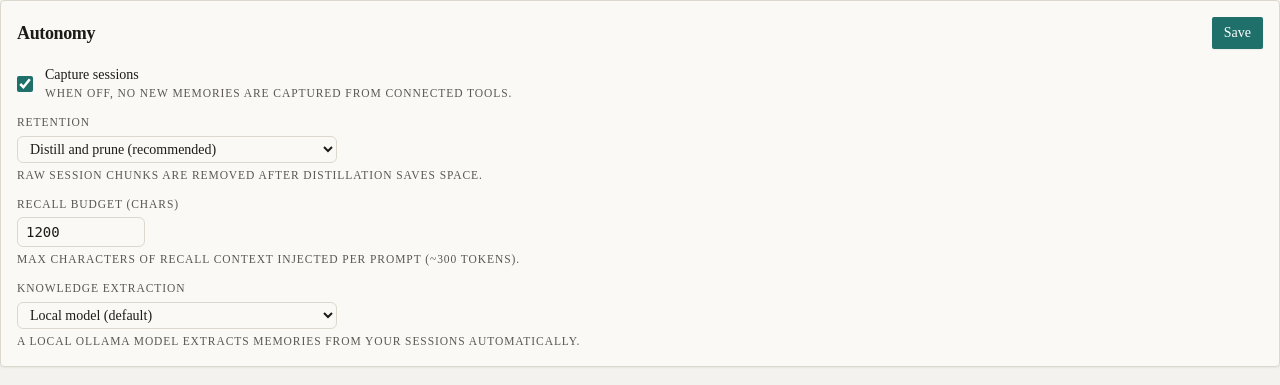
Test: AutonomySettings › shows saved confirmation after successful save
Click the button "Save" at (1237, 33), box [1212,17,1263,49]
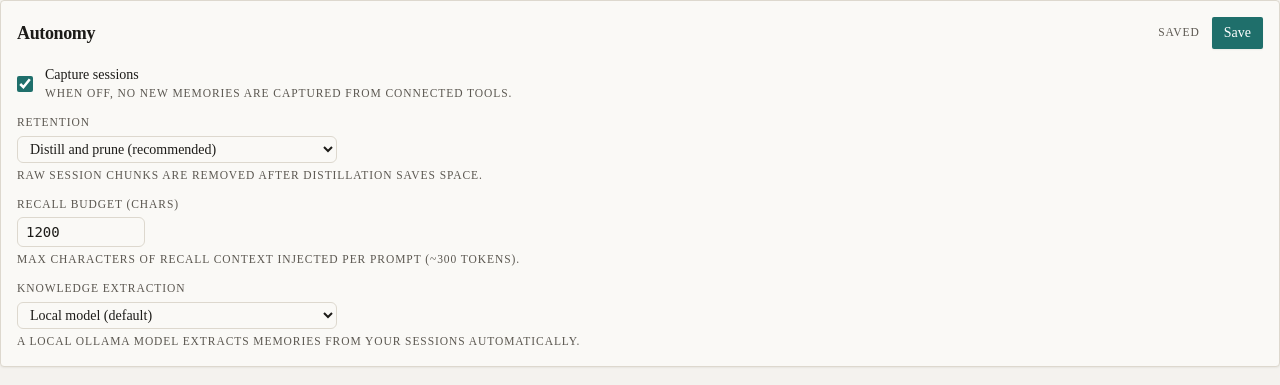
Now the text "Saved" is shown, box [1158,24,1200,42]
